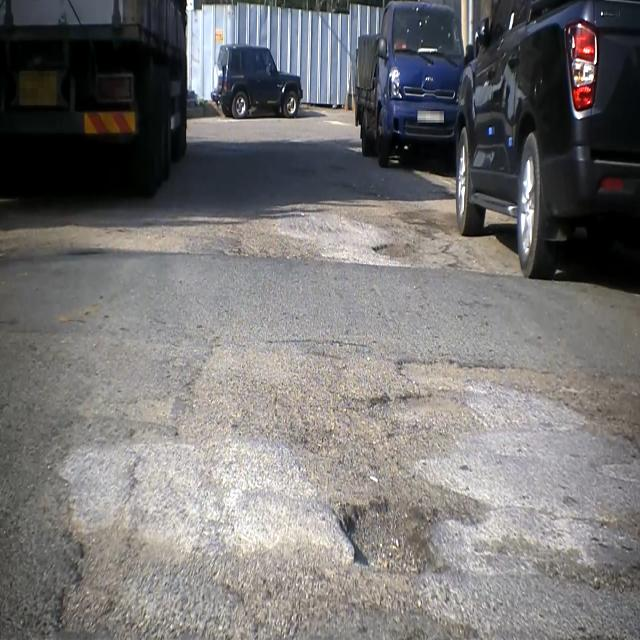Pothole: (364, 350, 640, 439), (328, 497, 458, 595)
